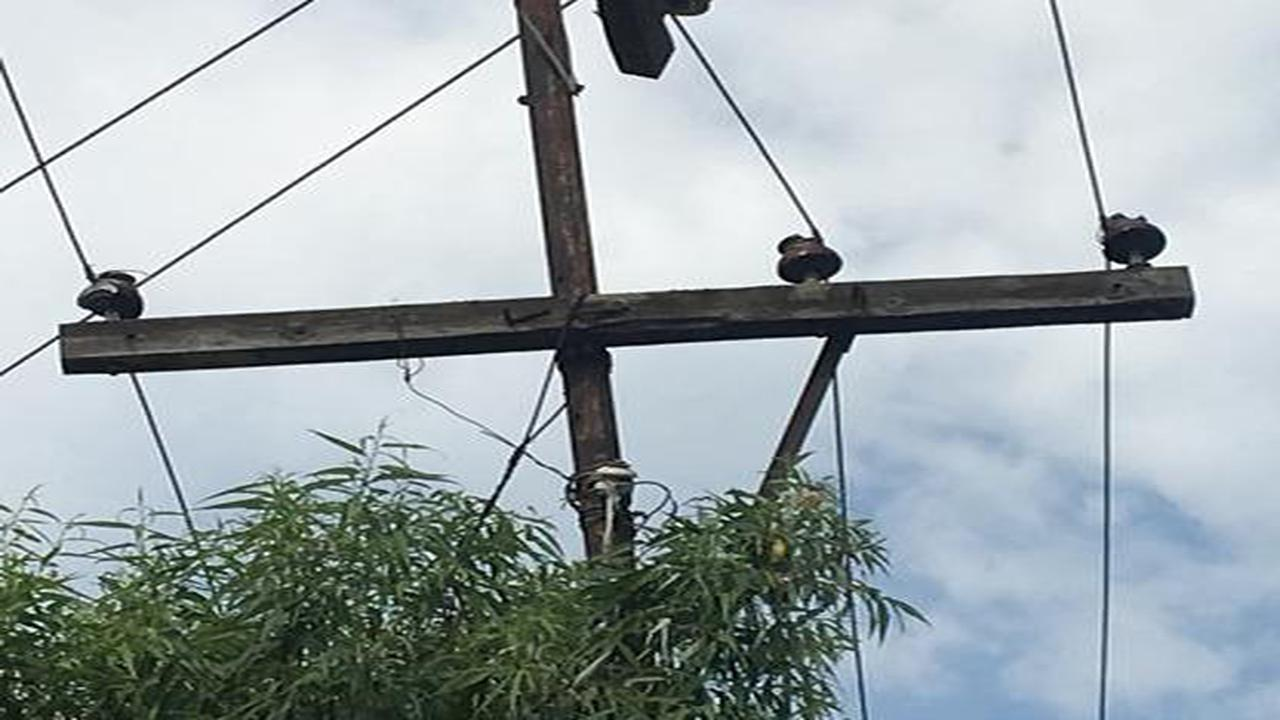defect_pin: (75, 268, 146, 322)
insulator_pin: (775, 230, 847, 282), (1099, 210, 1169, 263)
